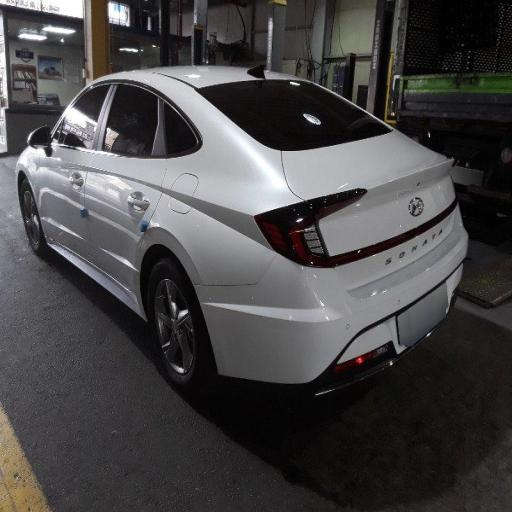dent: (37, 150, 397, 394)
